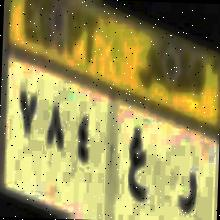4: (72, 108, 92, 175)
7: (16, 86, 38, 143)
8: (42, 92, 66, 160)
ghayn: (123, 122, 151, 208)
raa: (174, 157, 200, 220)
